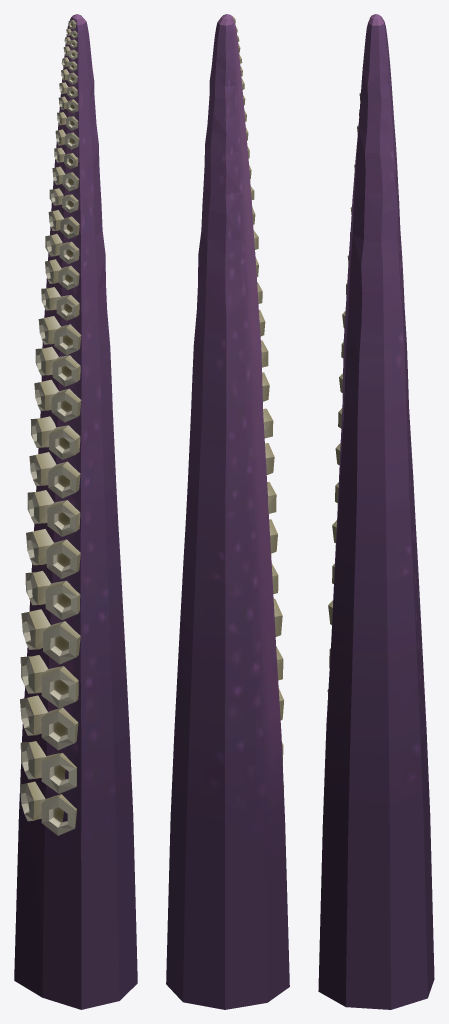
File: enKrakenTentacleDio1.fbx
The picture shows the model from 3 angles, left to right: view 1: azimuth 30°, elevation 25°; view 2: azimuth 210°, elevation 25°; view 3: azimuth 270°, elevation 25°; orthographic projection.
Visible parts, largest first — view 1: krakenTentacle; view 2: krakenTentacle; view 3: krakenTentacle.
Boxes of the visible parts, bbox=[...] form: krakenTentacle: bbox=[14, 14, 137, 1009]; krakenTentacle: bbox=[166, 14, 289, 1009]; krakenTentacle: bbox=[318, 14, 434, 1009].
Size of the model in its own units: 1.94 by 17.9 by 1.94.
